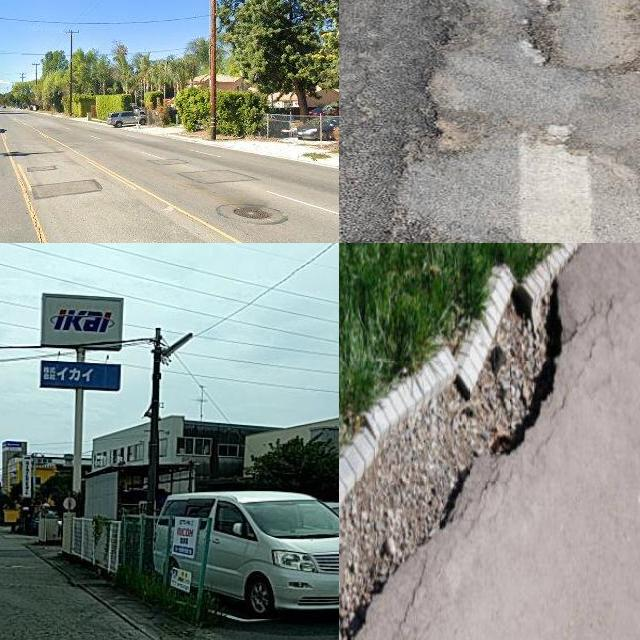Pinggir: (339, 243, 581, 640), (368, 0, 640, 243)
Sambungan: (29, 176, 104, 203)
